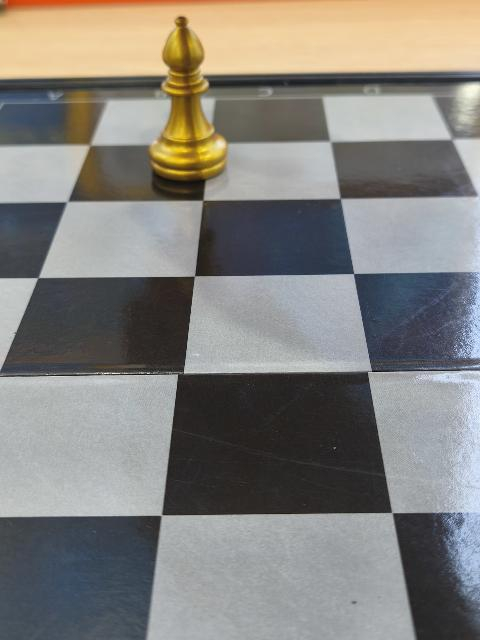black_bishop: (145, 14, 231, 184)
